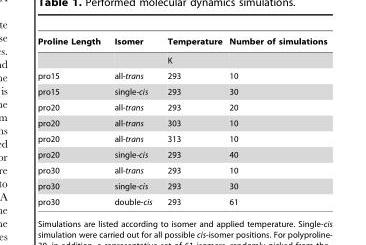table: (37, 36, 326, 206)
table column: (225, 36, 326, 206), (37, 36, 106, 206), (159, 36, 225, 206), (106, 36, 159, 206)
table column header: (37, 36, 326, 50)
table row: (37, 50, 326, 67), (37, 67, 326, 83), (37, 83, 326, 99), (37, 99, 326, 115), (37, 130, 326, 146), (37, 146, 326, 162), (37, 162, 326, 178), (37, 115, 326, 130), (37, 178, 326, 193), (37, 36, 326, 50), (37, 193, 326, 206)
